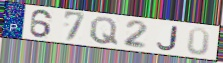0: (185, 26, 211, 56)
2: (123, 19, 149, 51)
6: (29, 9, 55, 39)
7: (62, 10, 86, 44)
J: (156, 25, 179, 52)
Q: (89, 16, 119, 47)
